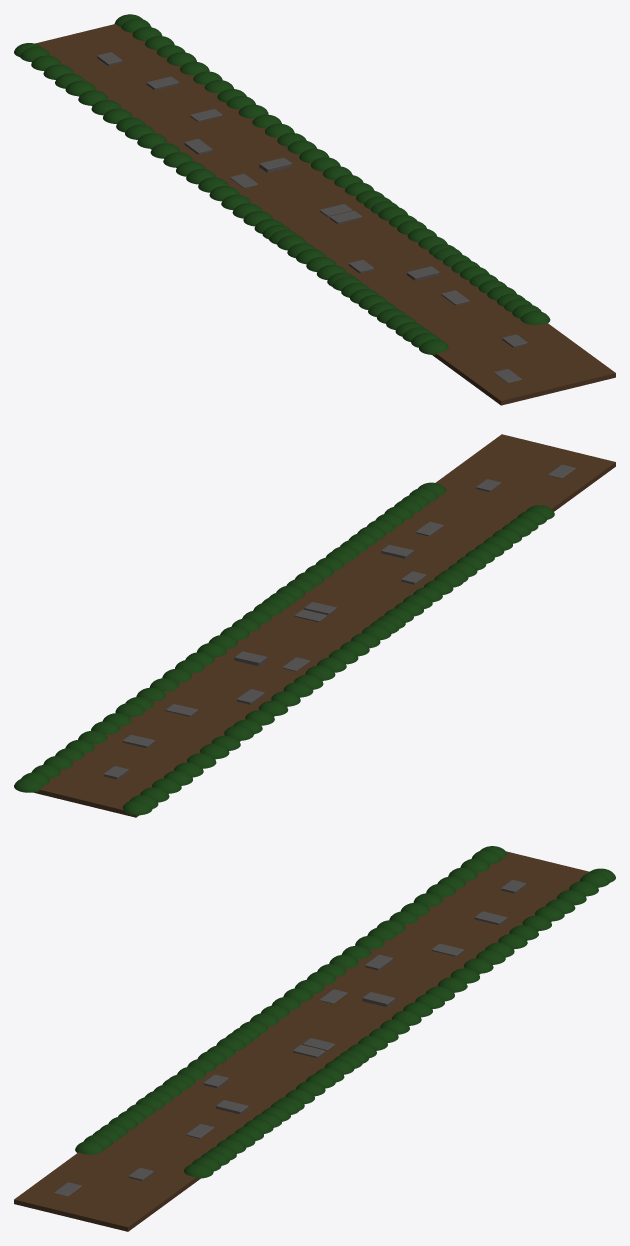
Rendered from Path2.fbx.
3 views of the same model, one above another, from view 1: azimuth 30°, elevation 25°; view 2: azimuth 150°, elevation 25°; view 3: azimuth 330°, elevation 25° (orthographic).
Visible parts, largest first — view 1: Cube; view 2: Cube; view 3: Cube.
Part boxes in pixels (<box>): Cube: <box>35,24,615,405</box>; Cube: <box>34,434,615,817</box>; Cube: <box>14,851,589,1231</box>.
Size of the model in its own units: 672 by 53.38 by 4328.
